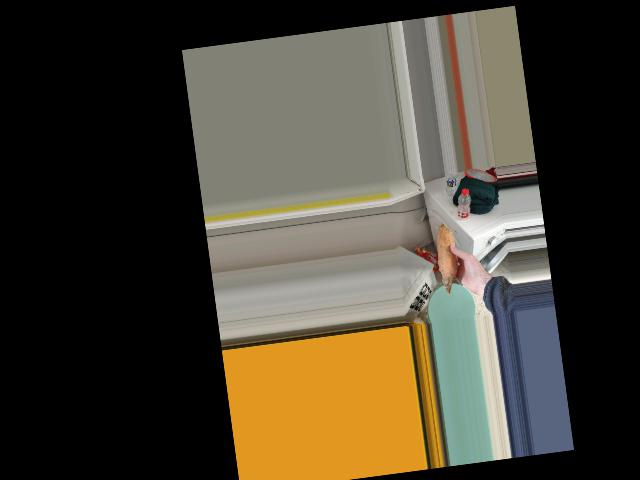sweet_potato: (435, 230, 463, 289)
